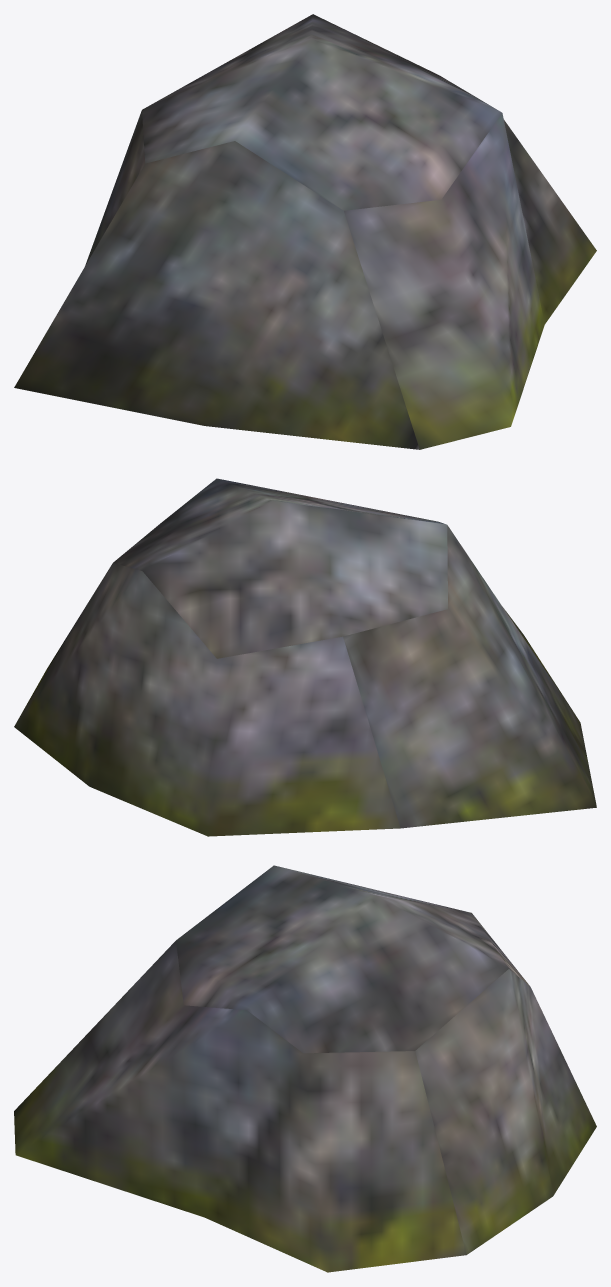
Rendered from yw_roc002.FBX.
3 renders of one model, top to bottom at view 1: azimuth 30°, elevation 25°; view 2: azimuth 150°, elevation 25°; view 3: azimuth 270°, elevation 25°, orthographic. The views are drawn at different scales.
Visible parts, largest first — view 1: yw_roc002; view 2: yw_roc002; view 3: yw_roc002.
Part boxes in pixels (x1,y1,x2,y2): yw_roc002: (14, 14, 596, 449); yw_roc002: (14, 478, 596, 836); yw_roc002: (14, 865, 596, 1272).
Bounding box in the file's own units: 1.05 × 0.4458 × 0.9356.
